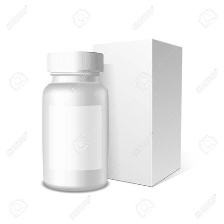book: (87, 32, 188, 191)
bottle: (35, 43, 115, 198)
